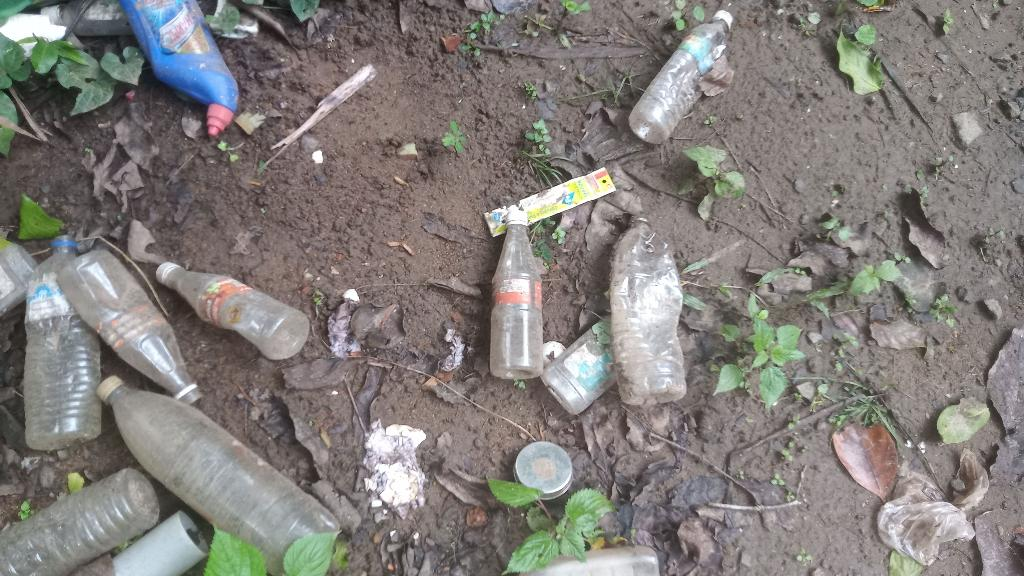garbage: (594, 206, 699, 419), (116, 9, 257, 144), (24, 234, 101, 448), (96, 231, 176, 424), (878, 449, 992, 565), (198, 216, 272, 389), (0, 494, 164, 565), (654, 0, 727, 157), (489, 202, 545, 385), (547, 319, 622, 421), (474, 177, 623, 218), (531, 544, 663, 576), (0, 242, 39, 321), (0, 0, 0, 0)
